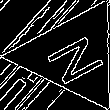N_NE: (36, 25, 109, 86)
